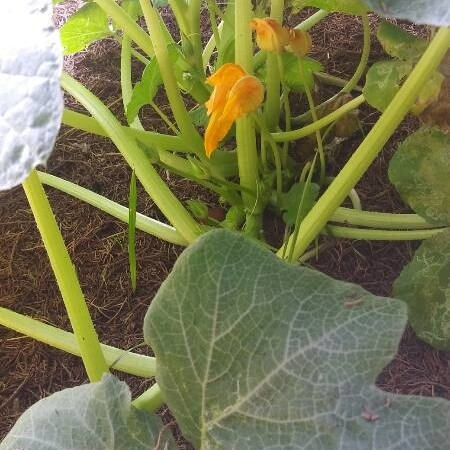obstacle: (97, 29, 424, 425)
